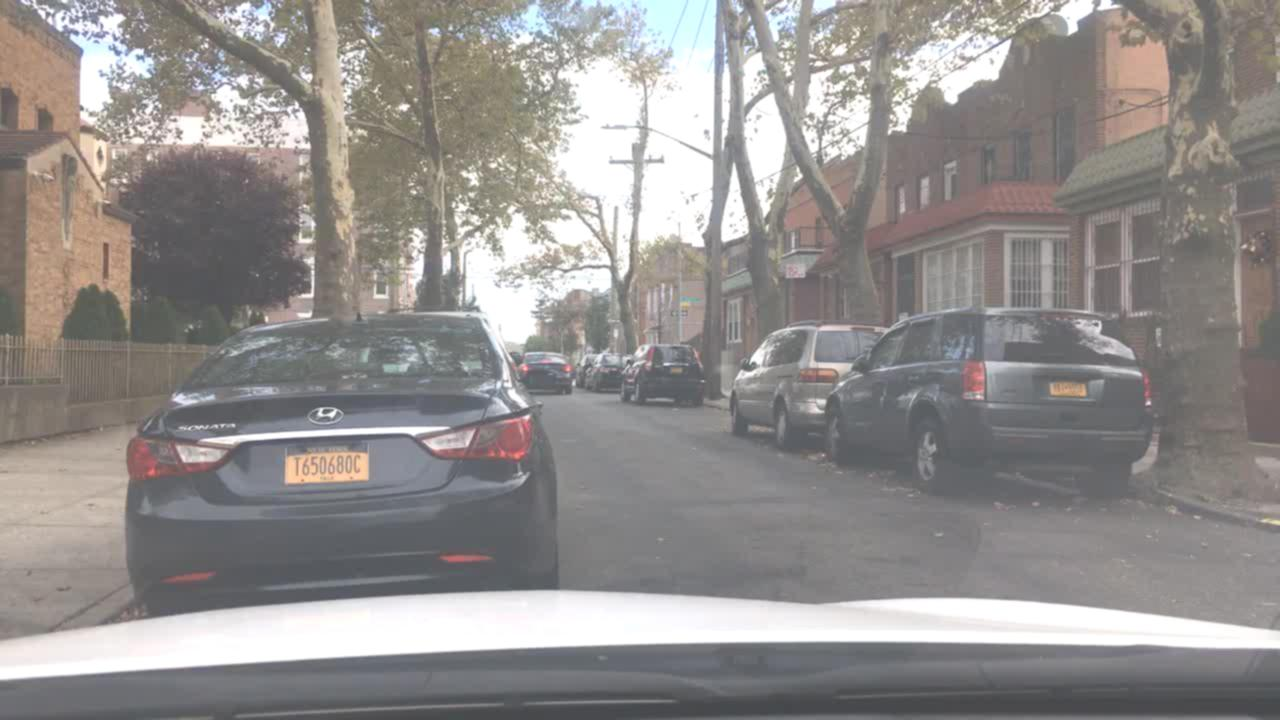Hyundai: (306, 406, 346, 429)
